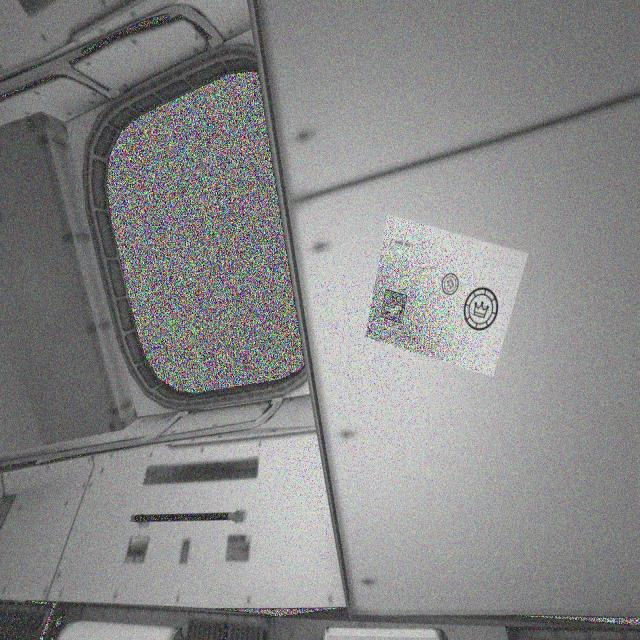coin: (463, 283, 502, 336), (441, 270, 463, 299)
